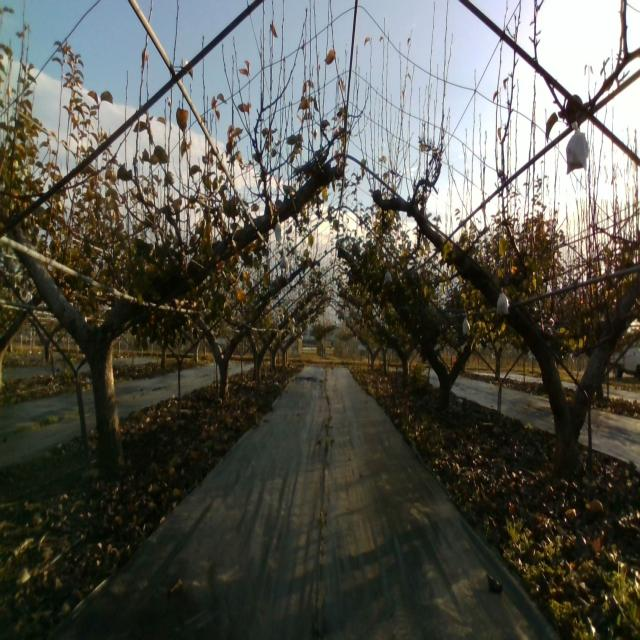pearbags: (566, 120, 590, 174), (495, 286, 510, 318)
